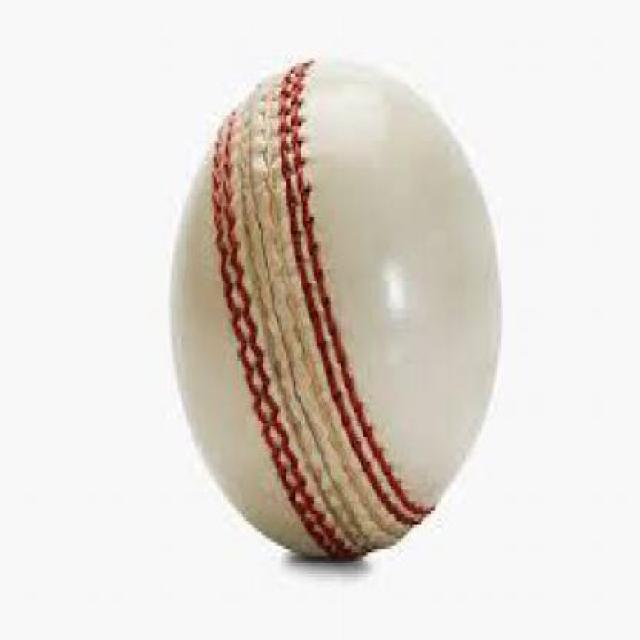ball: (150, 28, 530, 582)
